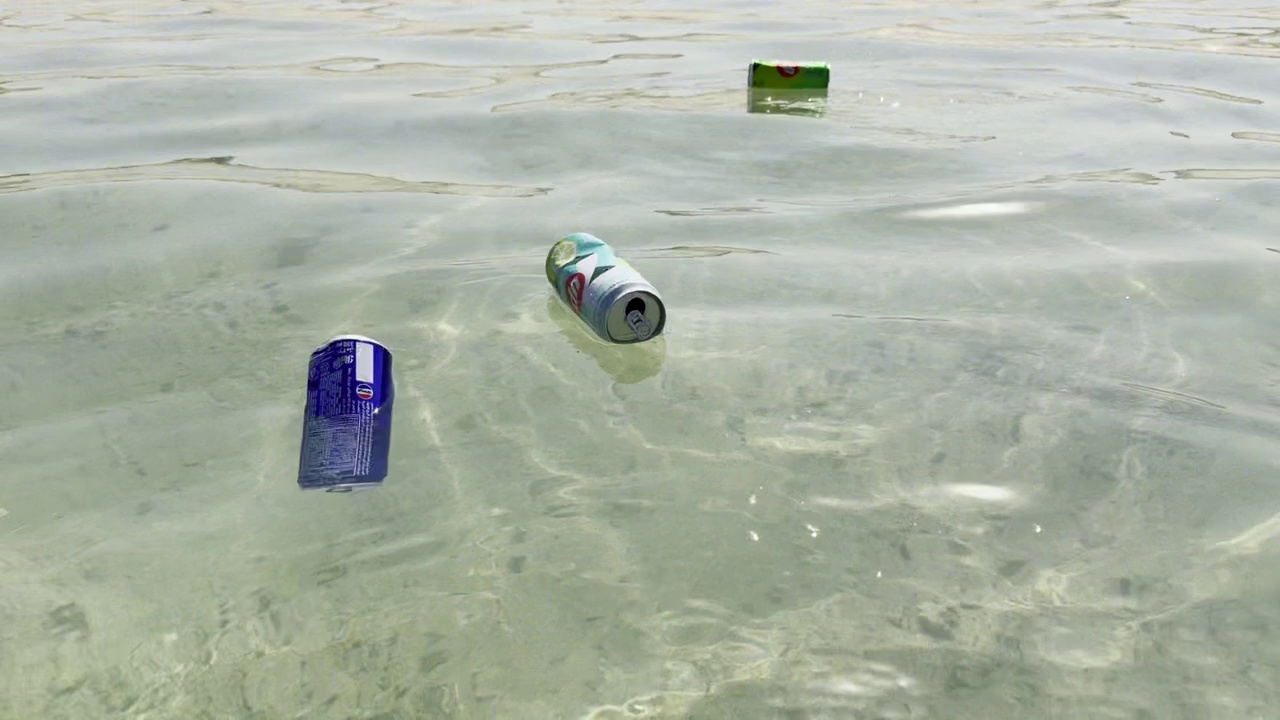debris: (292, 325, 397, 503), (540, 220, 675, 351), (742, 44, 839, 99)
